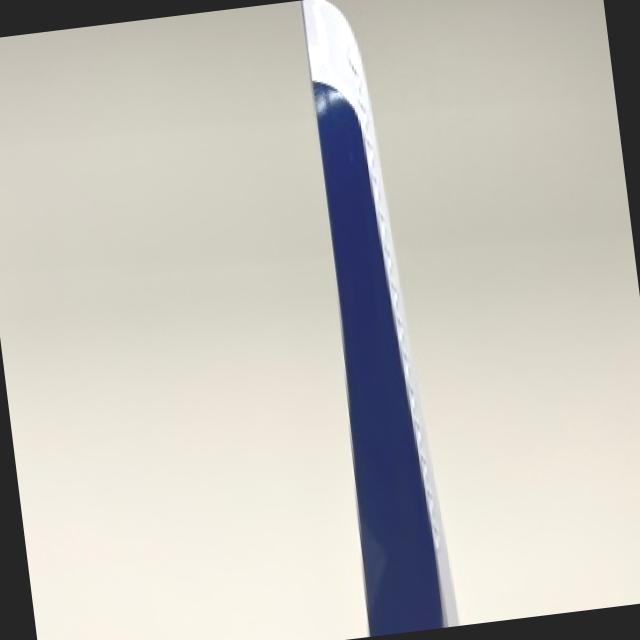healthy: (307, 0, 456, 634)
